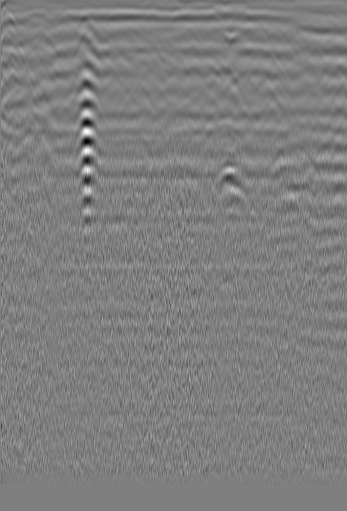가스: (211, 161, 254, 194)
상수: (317, 37, 346, 62)
오수: (20, 21, 65, 54)
우수: (175, 24, 204, 52)
